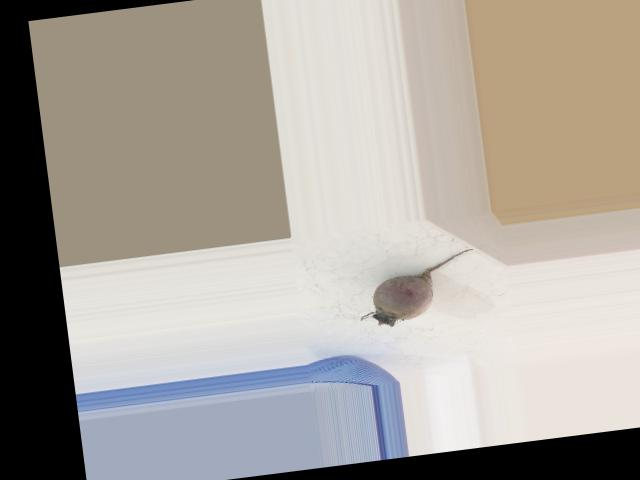beet: (354, 247, 481, 329)
